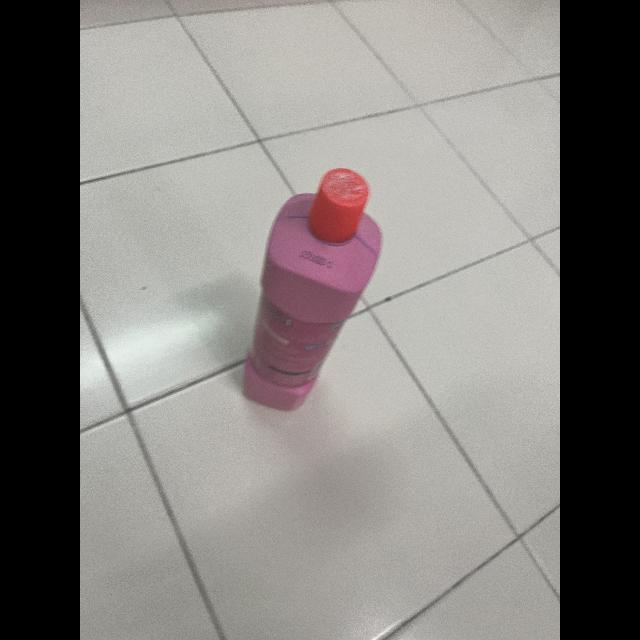chemical_plastic_bottle: (238, 158, 388, 412)
